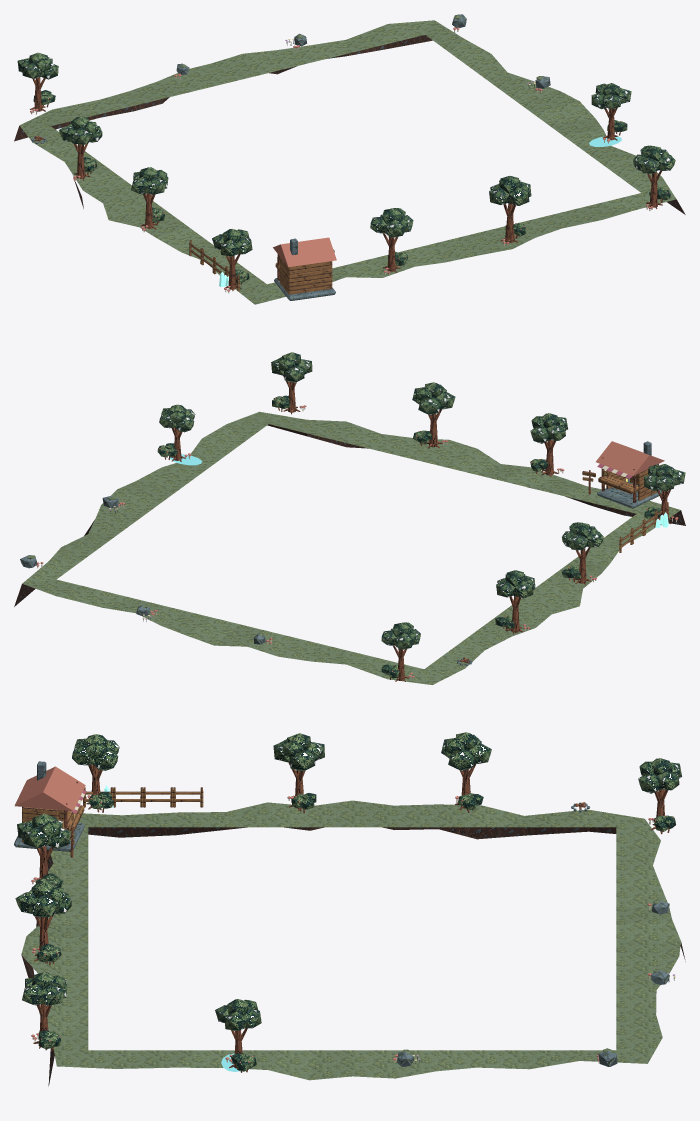
The model's file is entorno_16.glb.
3 views of the same model, one above another, from view 1: azimuth 30°, elevation 25°; view 2: azimuth 150°, elevation 25°; view 3: azimuth 270°, elevation 25° (orthographic). The views are drawn at different scales.
Parts seen in each view (by area): view 1: bosque_entorno_16; view 2: bosque_entorno_16; view 3: bosque_entorno_16.
Part boxes in pixels (<box>): bosque_entorno_16: <box>14,14,685,304</box>; bosque_entorno_16: <box>14,352,685,684</box>; bosque_entorno_16: <box>14,732,685,1086</box>.
Bounding box in the file's own units: 20.59 × 3.69 × 20.62.
Materials: 17 (6 with a texture image).
